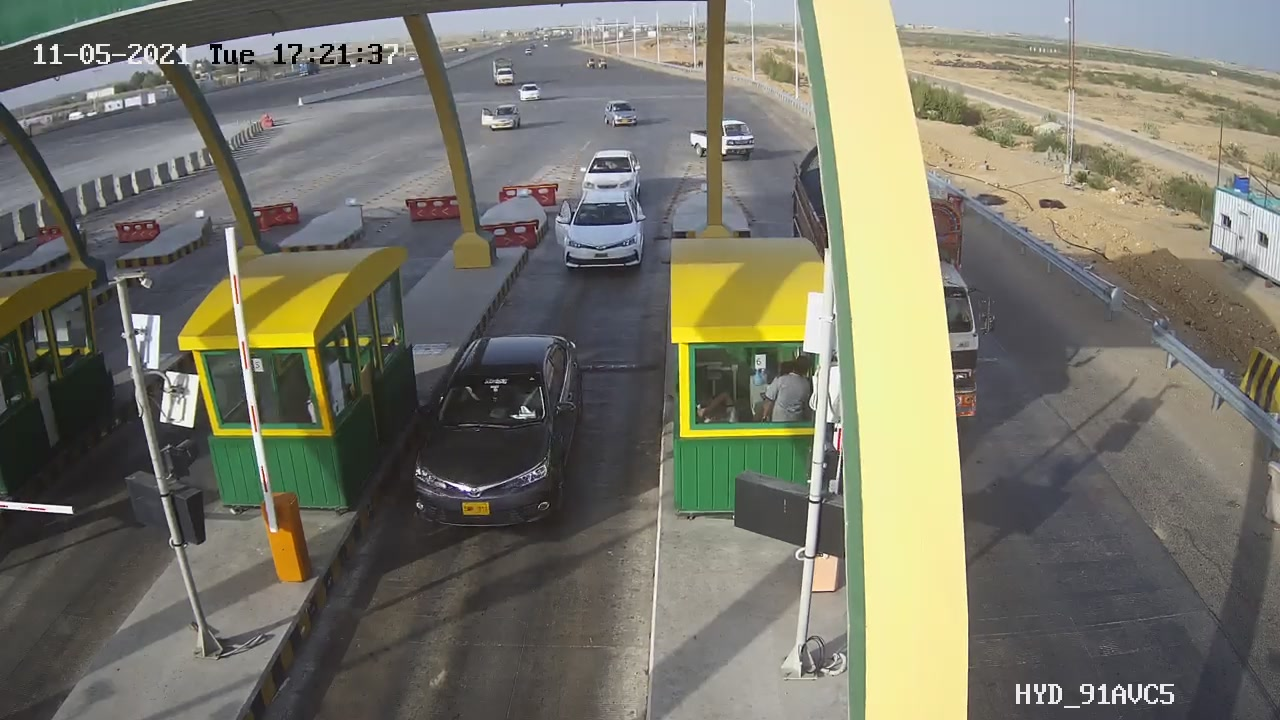F1: (399, 321, 596, 540), (540, 182, 661, 282)
